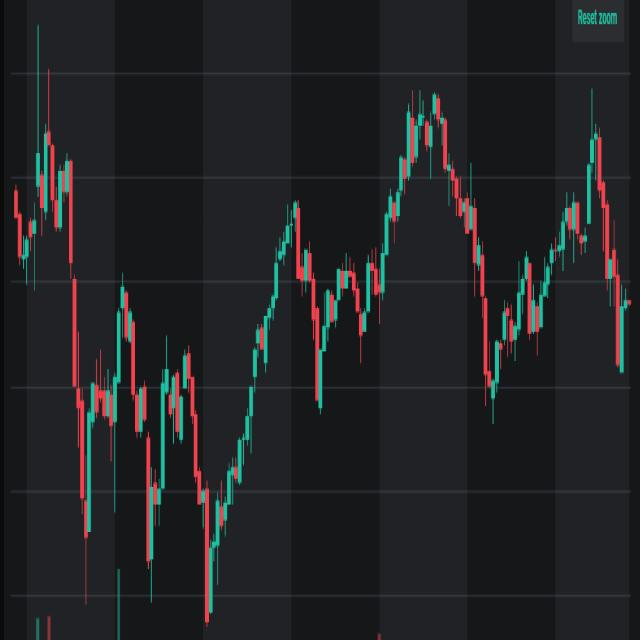Resistance-breakout: (155, 181, 304, 621)
Support-breakout: (17, 111, 113, 557)
